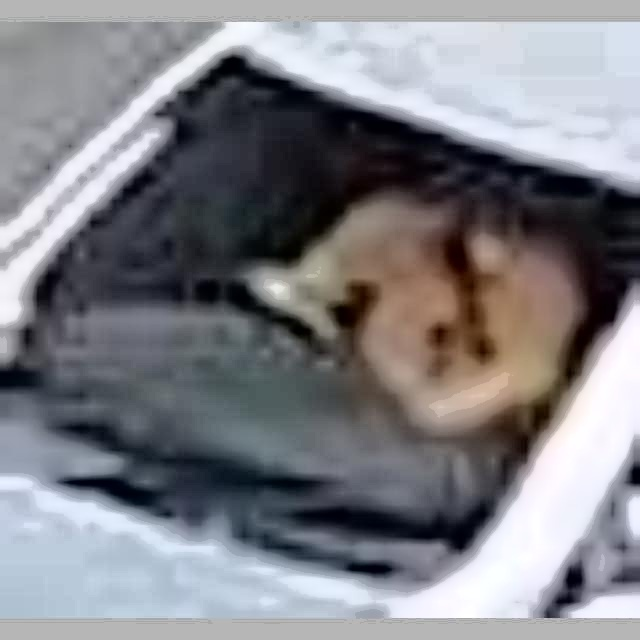pakai: (271, 163, 542, 445)
